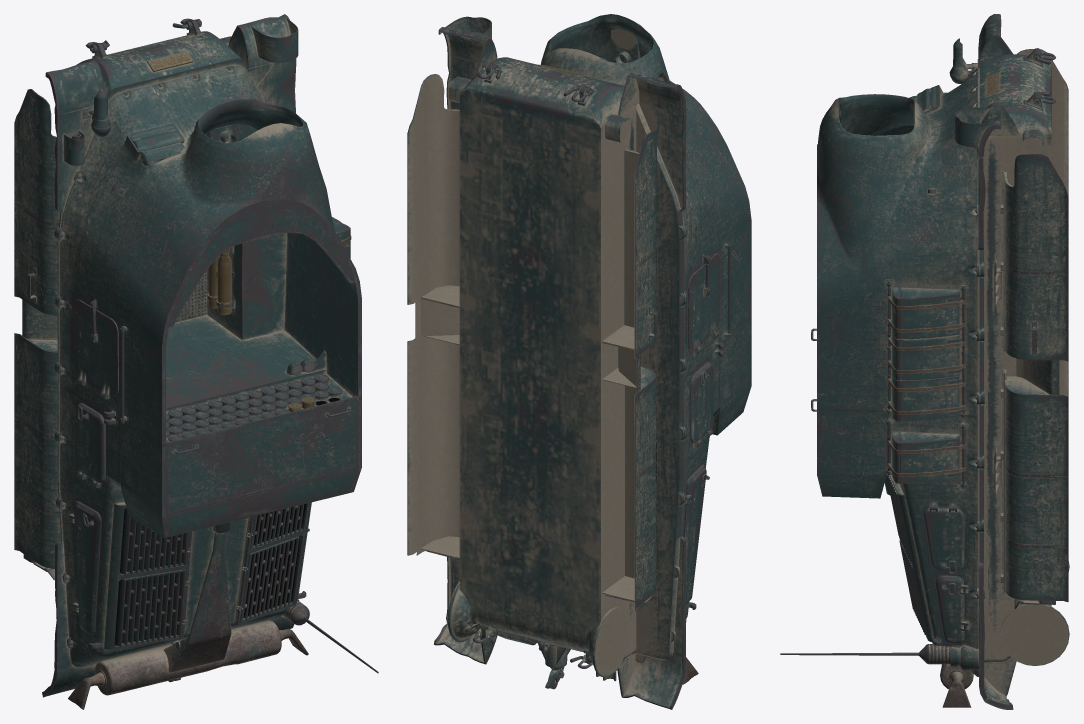
The model's file is Hull.glb.
The picture shows the model from 3 angles, left to right: view 1: azimuth 30°, elevation 25°; view 2: azimuth 150°, elevation 25°; view 3: azimuth 270°, elevation 25°; orthographic projection. The views are drawn at different scales.
Parts seen in each view (by area): view 1: set_0_group_0, set_0_group_1; view 2: set_0_group_0, set_0_group_1; view 3: set_0_group_0, set_0_group_1.
Part boxes in pixels (x1,y1,x2,y2): set_0_group_0: [14, 14, 378, 709]; set_0_group_1: [166, 99, 357, 443]; set_0_group_0: [407, 16, 751, 709]; set_0_group_1: [548, 14, 653, 62]; set_0_group_0: [780, 14, 1069, 709]; set_0_group_1: [838, 94, 914, 135].
Bounding box in the file's own units: 2.18 × 5.29 × 2.29.
Materials: 2 (2 with a texture image).
